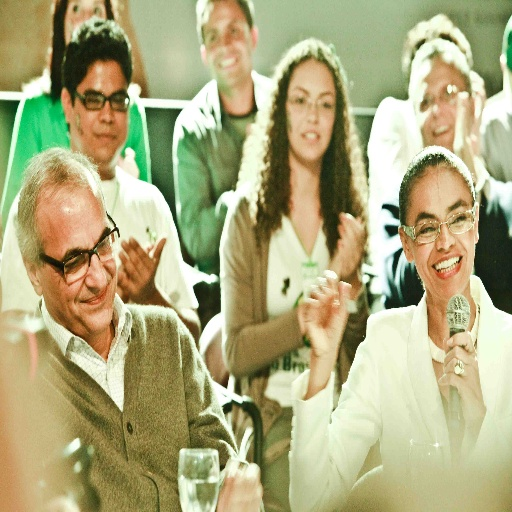hand: (436, 326, 483, 428), (302, 266, 350, 360), (214, 459, 264, 511), (451, 90, 477, 179), (113, 242, 153, 299), (328, 213, 361, 277), (335, 209, 362, 277), (469, 70, 487, 121), (117, 146, 140, 177)
